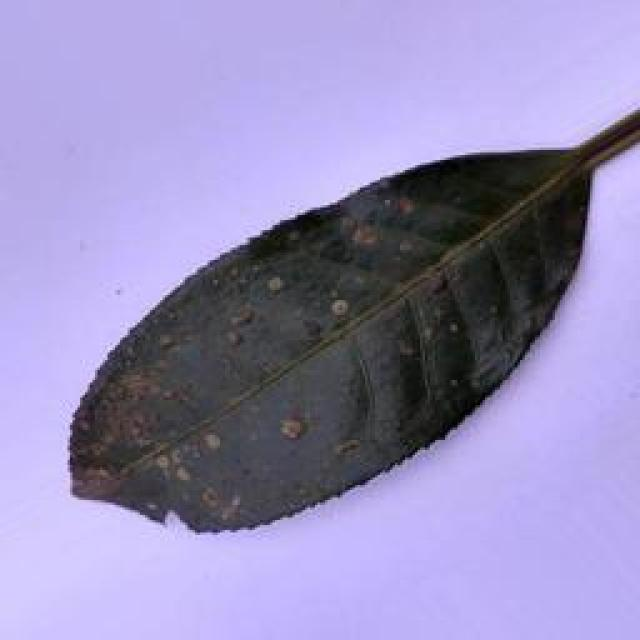Algal Leaf Spot: (45, 145, 608, 539)
